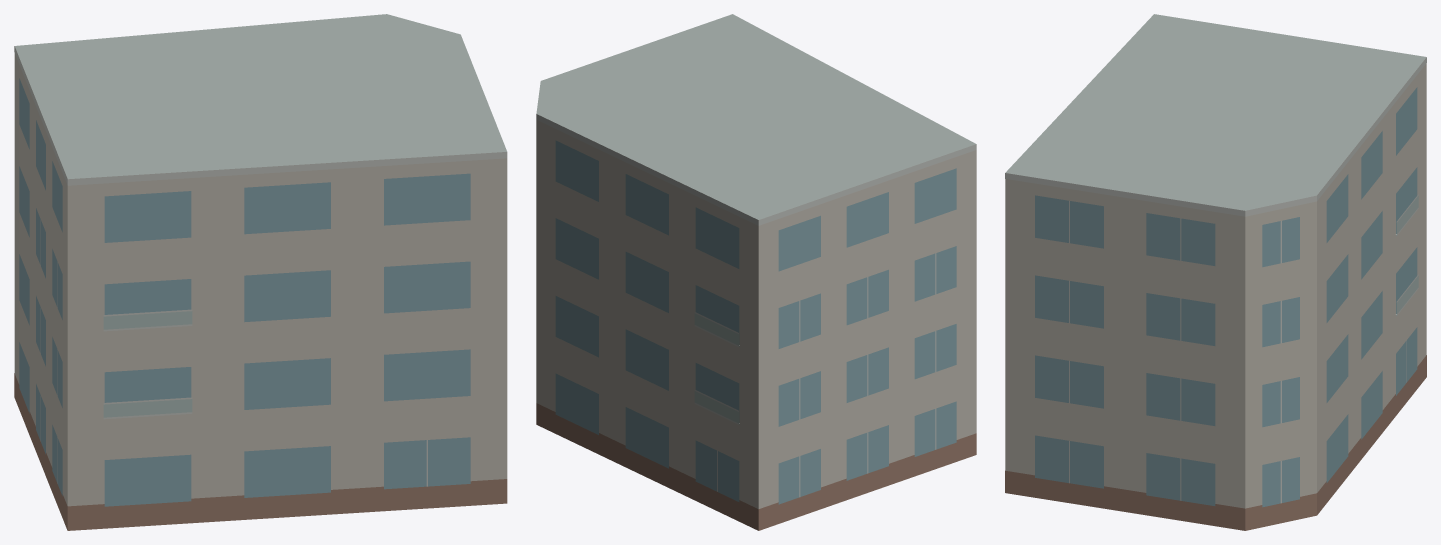
Rendered from survey-upis-32876778.glb.
3 renders of one model, left to right at view 1: azimuth 30°, elevation 25°; view 2: azimuth 150°, elevation 25°; view 3: azimuth 270°, elevation 25°, orthographic. The views are drawn at different scales.
Visible parts, largest first — view 1: survey-upis-32876778.tmp; view 2: survey-upis-32876778.tmp; view 3: survey-upis-32876778.tmp.
Part boxes in pixels (box(x1,y1,x2,y2)): survey-upis-32876778.tmp: box(14, 14, 507, 530); survey-upis-32876778.tmp: box(536, 14, 976, 530); survey-upis-32876778.tmp: box(1005, 14, 1426, 530).
Size of the model in its own units: 17.42 by 13.2 by 15.77.
